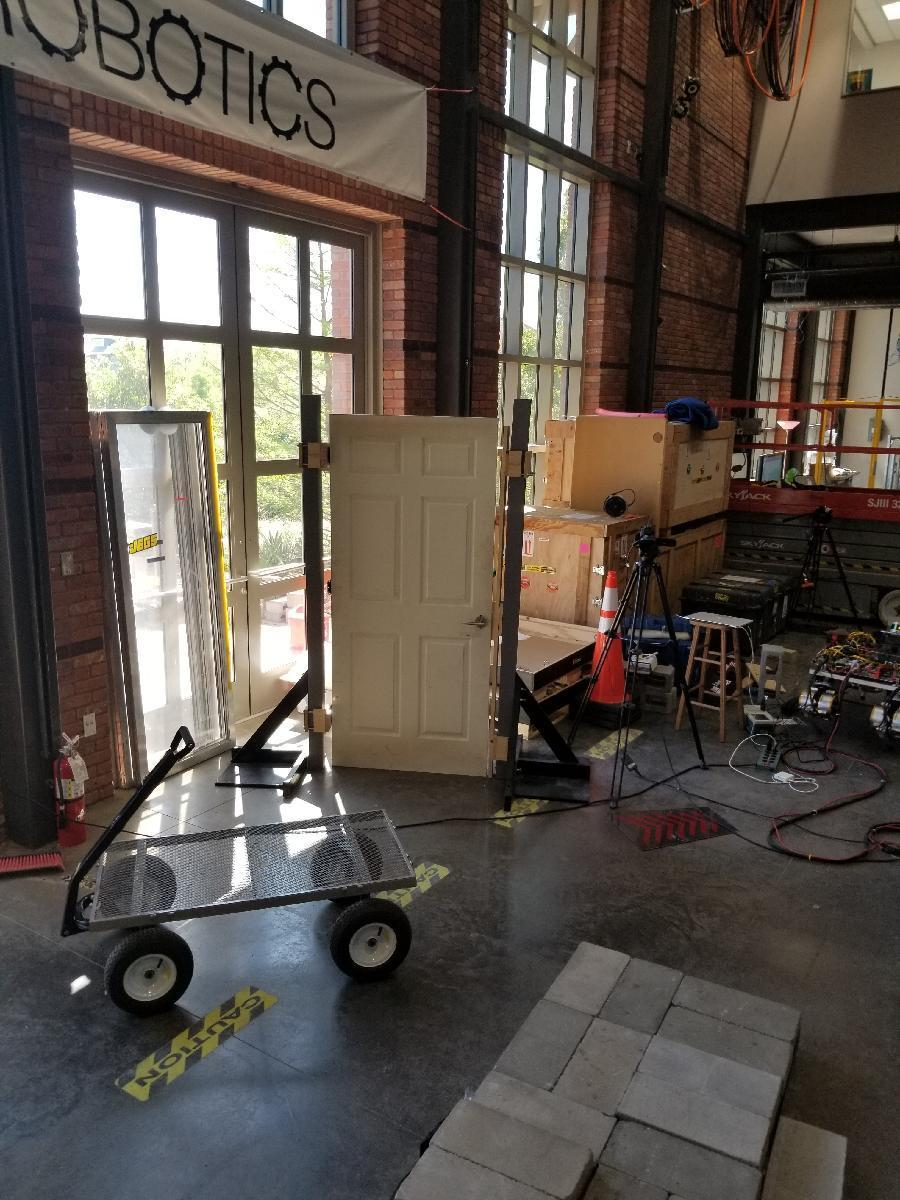door: (336, 403, 502, 777)
handle: (462, 612, 489, 632)
